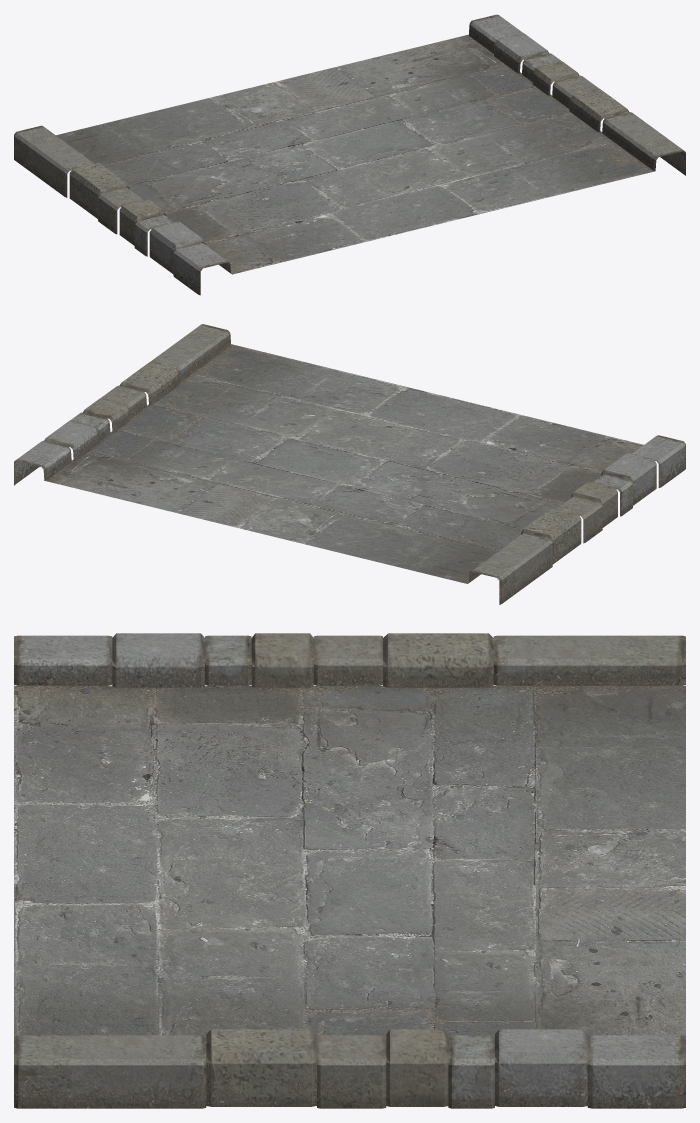
File: bg_lut_lucastle_street03_sm_jjy.FBX
3 views of the same model, one above another, from view 1: azimuth 30°, elevation 25°; view 2: azimuth 150°, elevation 25°; view 3: azimuth 270°, elevation 25° (orthographic). The views are drawn at different scales.
Parts seen in each view (by area): view 1: bg_lut_lucastle_street03_sm_jjy; view 2: bg_lut_lucastle_street03_sm_jjy; view 3: bg_lut_lucastle_street03_sm_jjy.
Part boxes in pixels (x1,y1,x2,y2): bg_lut_lucastle_street03_sm_jjy: (14,14,685,295); bg_lut_lucastle_street03_sm_jjy: (14,324,685,604); bg_lut_lucastle_street03_sm_jjy: (14,633,685,1108).
Bounding box in the file's own units: 386 × 21.73 × 256.
